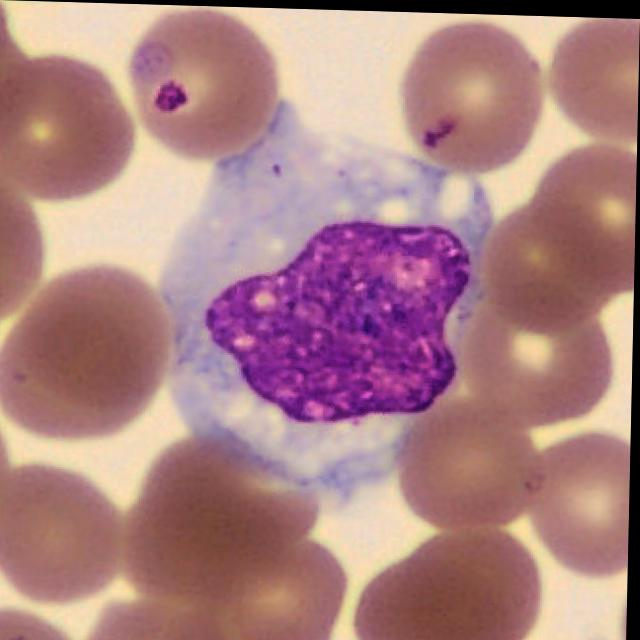Monocito: (165, 103, 488, 492)
